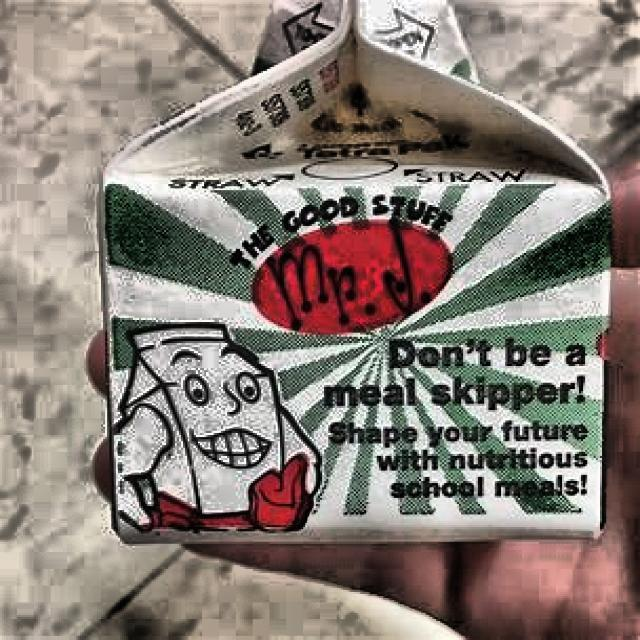cardboard: (95, 0, 612, 546)
